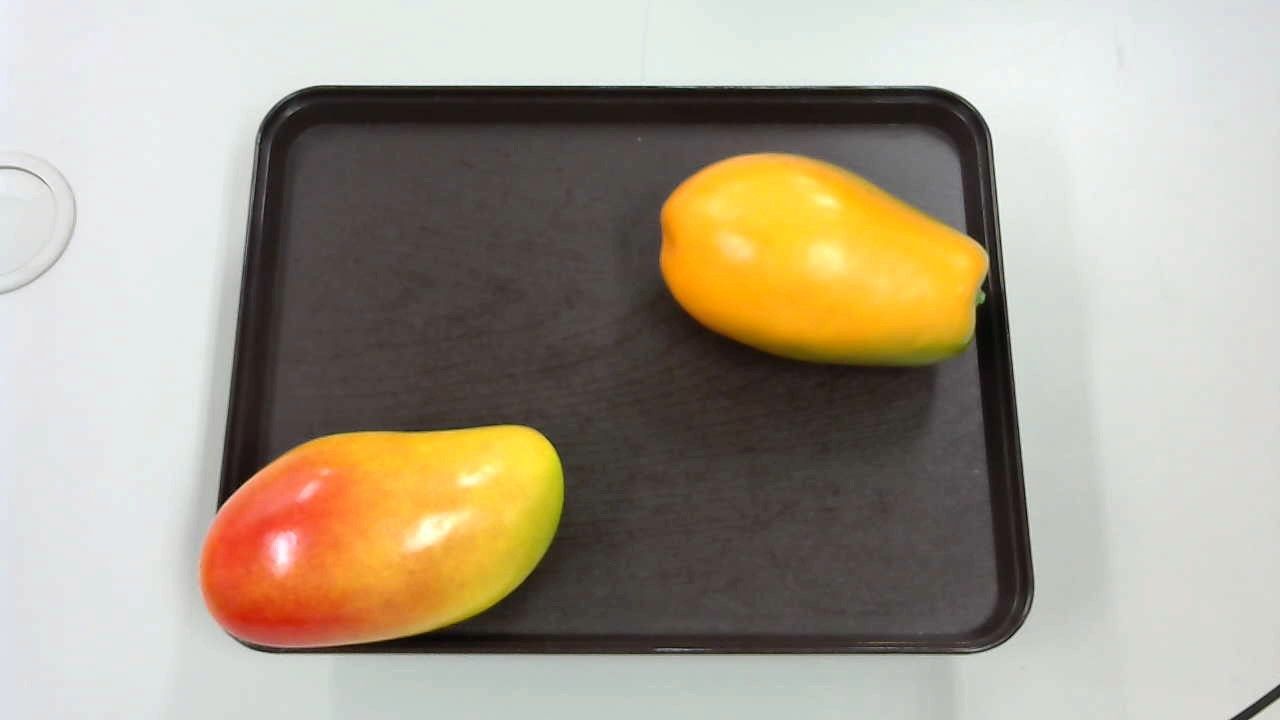papya: (656, 151, 993, 367)
red mango: (195, 421, 563, 655)
